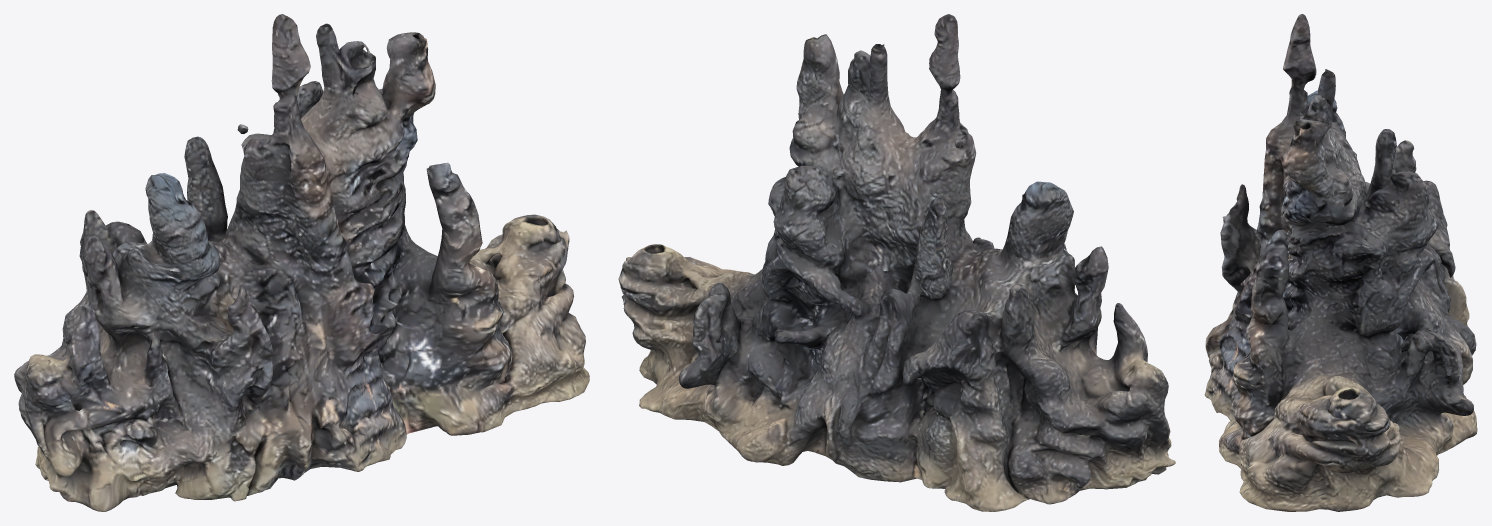
File: base_basic_shaded.fbx
The picture shows the model from 3 angles, left to right: view 1: azimuth 30°, elevation 25°; view 2: azimuth 150°, elevation 25°; view 3: azimuth 270°, elevation 25°; orthographic projection. The views are drawn at different scales.
Parts seen in each view (by area): view 1: model; view 2: model; view 3: model.
Boxes of the visible parts, x1,y1,x2,y2 form: model: (14,14,589,511); model: (618,14,1175,511); model: (1204,14,1477,511).
Bounding box in the file's own units: 187 × 140 × 91.32.
